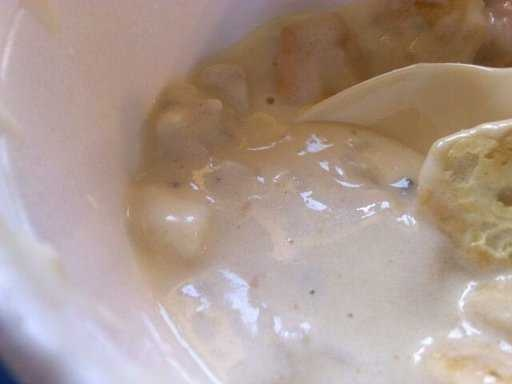soup: (116, 3, 505, 378)
